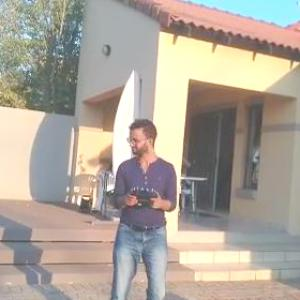follow: (106, 113, 181, 299)
